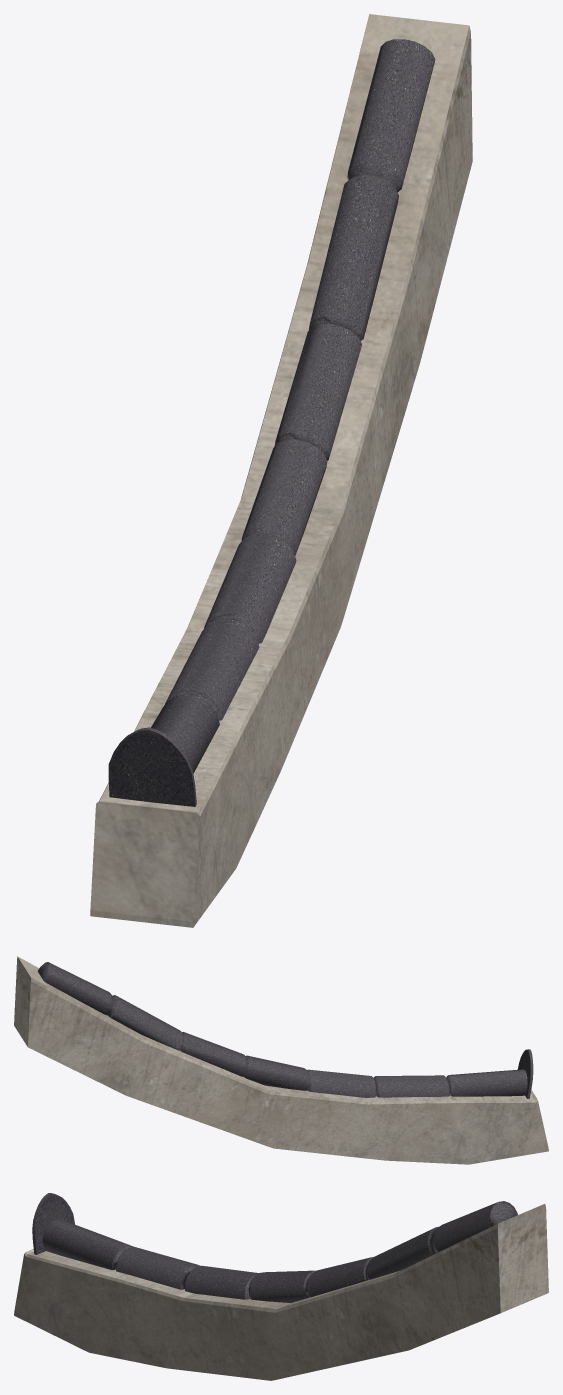
Rendered from SM_R_BeamRoof_8.fbx.
3 views of the same model, one above another, from view 1: azimuth 30°, elevation 25°; view 2: azimuth 150°, elevation 25°; view 3: azimuth 270°, elevation 25° (orthographic). The views are drawn at different scales.
Visible parts, largest first — view 1: SM_R_BeamRoof_8; view 2: SM_R_BeamRoof_8; view 3: SM_R_BeamRoof_8.
Part boxes in pixels (box(x1,y1,x2,y2)): SM_R_BeamRoof_8: box(90, 14, 472, 927); SM_R_BeamRoof_8: box(14, 956, 548, 1164); SM_R_BeamRoof_8: box(14, 1193, 548, 1380).
Bounding box in the file's own units: 312 × 312 × 195.
2 materials, 2 textured.
